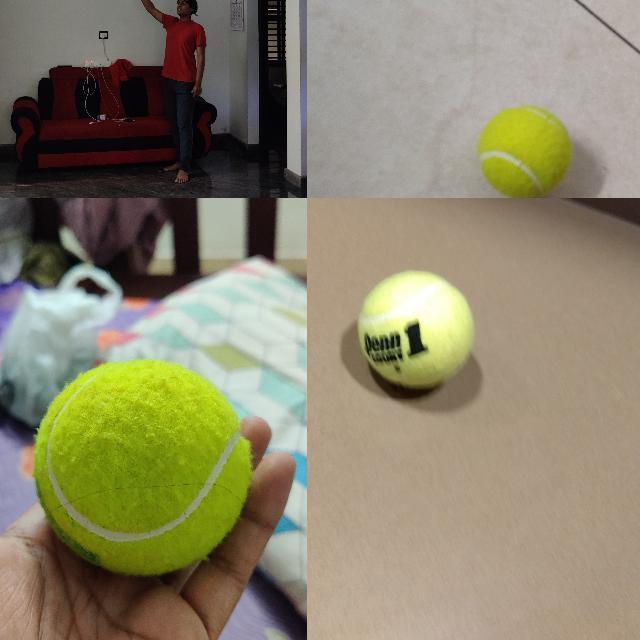tennis-ball: (33, 359, 254, 580), (357, 271, 476, 390), (477, 104, 574, 197)
